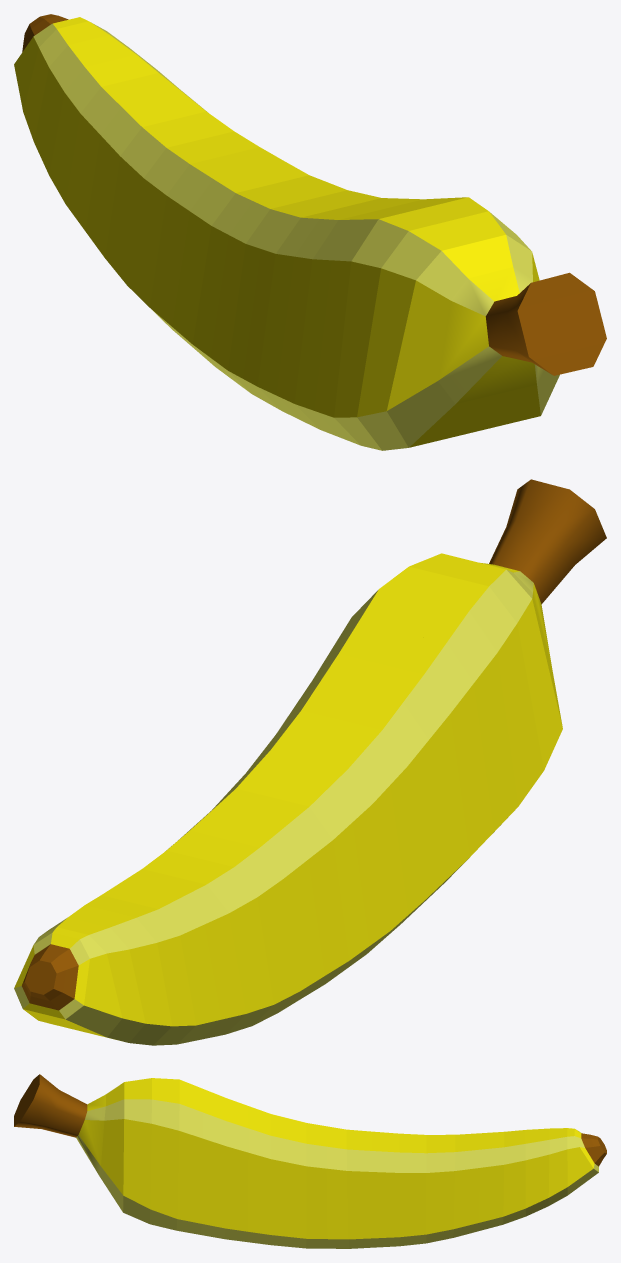
Rendered from Banana.fbx.
3 views of the same model, one above another, from view 1: azimuth 30°, elevation 25°; view 2: azimuth 150°, elevation 25°; view 3: azimuth 270°, elevation 25° (orthographic). The views are drawn at different scales.
Visible parts, largest first — view 1: polySurface12; view 2: polySurface12; view 3: polySurface12.
Boxes of the visible parts, x1,y1,x2,y2 form: polySurface12: [14, 14, 606, 450]; polySurface12: [14, 479, 606, 1045]; polySurface12: [14, 1074, 606, 1248].
Size of the model in its own units: 116 by 167 by 576.
